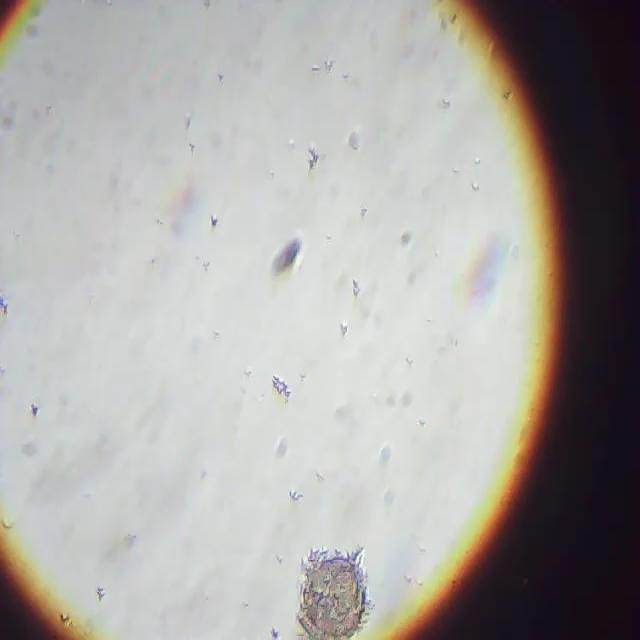alexandrium: (294, 539, 378, 638)
